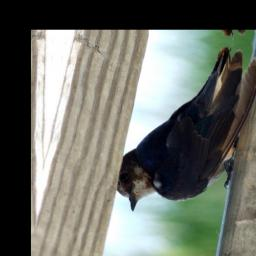Swallow: (113, 40, 256, 219)
